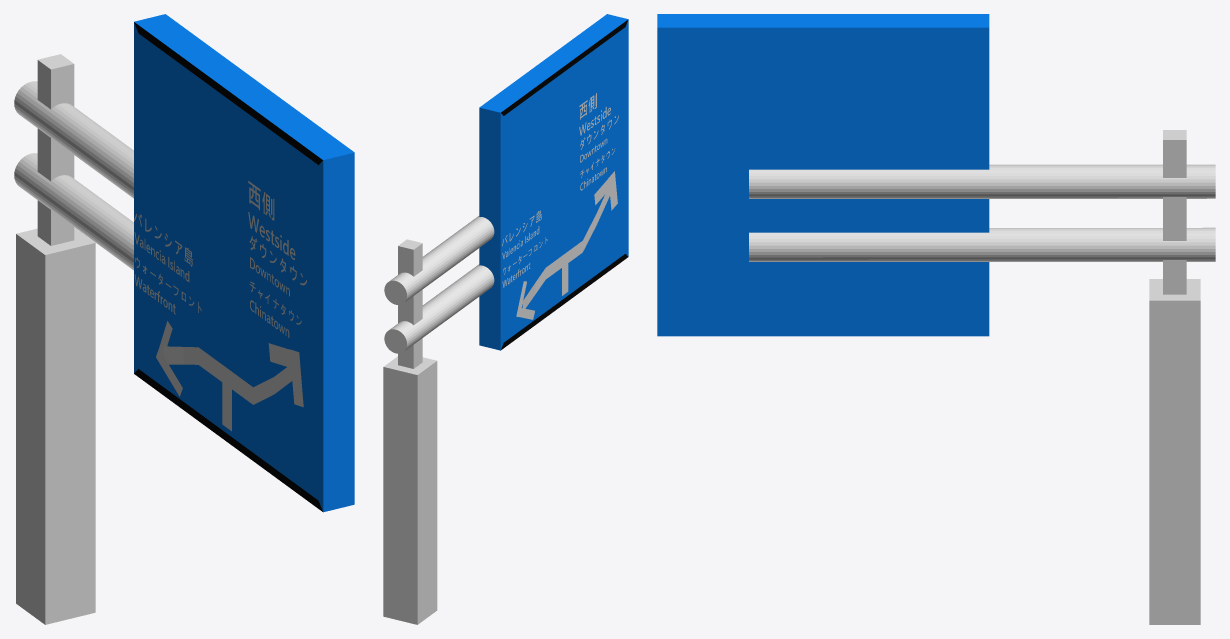
Rendered from japantown_sign_13.fbx.
3 views of the same model, side by side, from view 1: azimuth 30°, elevation 25°; view 2: azimuth 150°, elevation 25°; view 3: azimuth 270°, elevation 25° (orthographic). The views are drawn at different scales.
Parts seen in each view (by area): view 1: Cube.003, Cube, Cylinder, Cylinder.001, Plane.006, Plane.001, Plane, Plane.005; view 2: Cube.003, Cube, Cylinder.001, Cylinder, Plane.006, Plane.001; view 3: Cube.003, Cube, Cylinder, Cylinder.001.
Boxes of the visible parts, x1,y1,x2,y2 form: Cube.003: [134, 14, 354, 512]; Cube: [16, 54, 95, 624]; Cylinder: [14, 81, 133, 198]; Cylinder.001: [14, 153, 133, 270]; Plane.006: [231, 367, 292, 404]; Plane.001: [163, 346, 222, 381]; Plane: [222, 365, 231, 431]; Plane.005: [268, 343, 298, 369]; Cube.003: [479, 14, 628, 350]; Cube: [383, 239, 437, 624]; Cylinder.001: [384, 264, 494, 353]; Cylinder: [384, 216, 494, 304]; Plane.006: [567, 189, 609, 263]; Plane.001: [522, 256, 561, 308]; Cube.003: [657, 14, 989, 336]; Cube: [1149, 130, 1200, 624]; Cylinder: [749, 164, 1215, 198]; Cylinder.001: [749, 227, 1215, 261].
Size of the model in its own units: 6.54 by 76.11 by 65.5.
